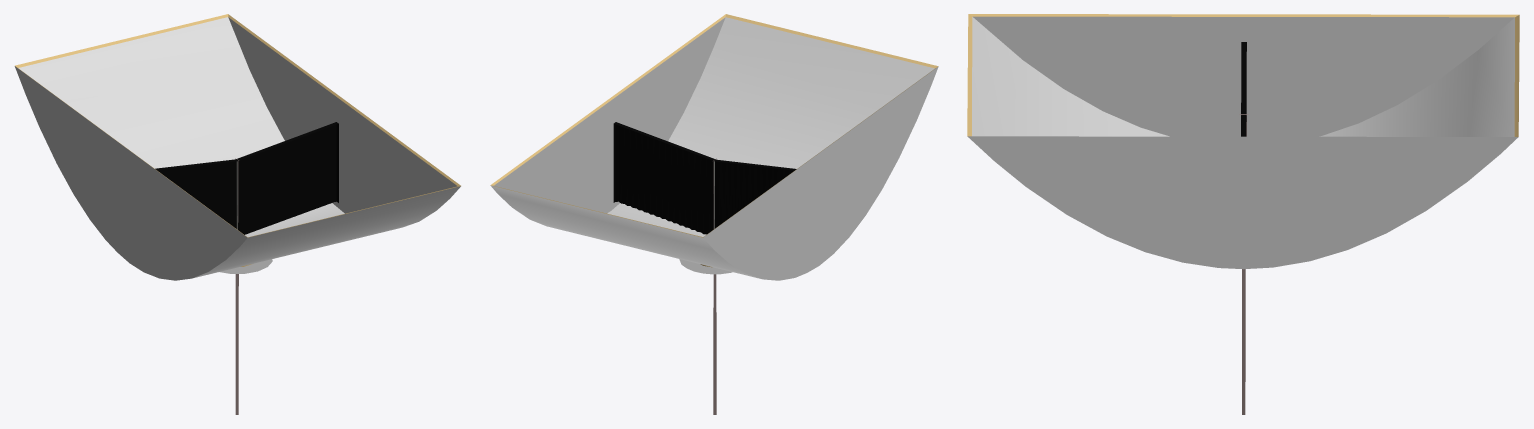
File: Boat_Radiator_LOD0.glb
3 views of the same model, side by side, from view 1: azimuth 30°, elevation 25°; view 2: azimuth 150°, elevation 25°; view 3: azimuth 270°, elevation 25° (orthographic). The views are drawn at different scales.
Visible parts, largest first — view 1: RotatingRad-LOD0, RotatingRad_Base-LOD0; view 2: RotatingRad-LOD0, RotatingRad_Base-LOD0; view 3: RotatingRad-LOD0, RotatingRad_Base-LOD0.
Part boxes in pixels (x1,y1,x2,y2): RotatingRad-LOD0: (14, 14, 460, 280); RotatingRad_Base-LOD0: (220, 259, 272, 414); RotatingRad-LOD0: (490, 14, 938, 280); RotatingRad_Base-LOD0: (679, 259, 732, 414); RotatingRad-LOD0: (967, 14, 1519, 269); RotatingRad_Base-LOD0: (1242, 269, 1245, 414).
Bounding box in the file's own units: 22.8 × 29.32 × 43.27.
